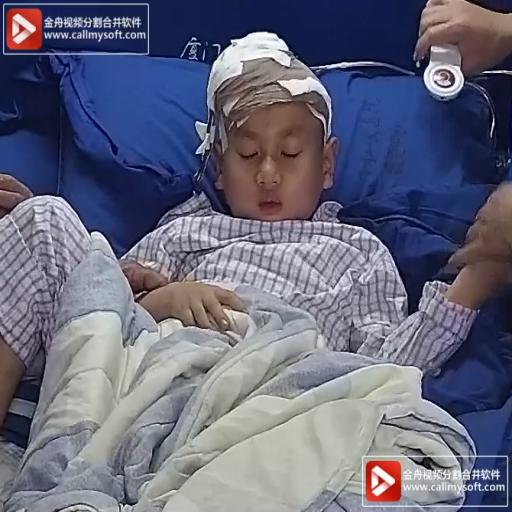Seizure: (196, 43, 352, 231)
